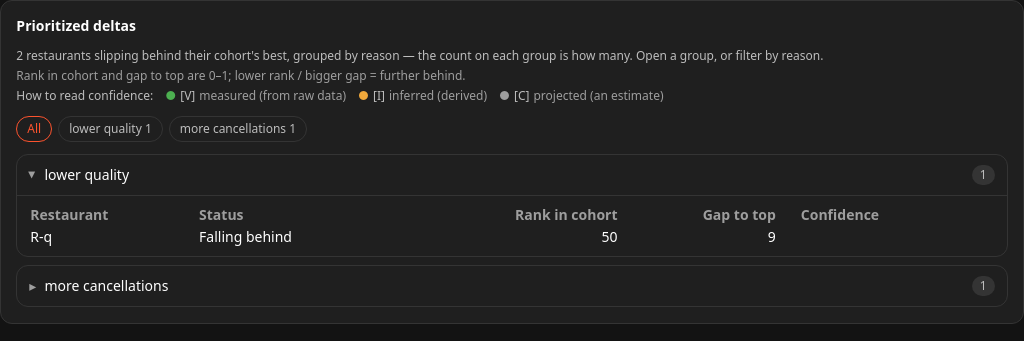
Test case: F-2.3 DeltaPanel — grouped by cause › filtering by a cause chip hides rows of the other causes
expect the text "R-q" is shown: met, box [29,226,198,248]
Click the button "more cancellations 1". click: (238, 129)
box: [169,116,307,142]
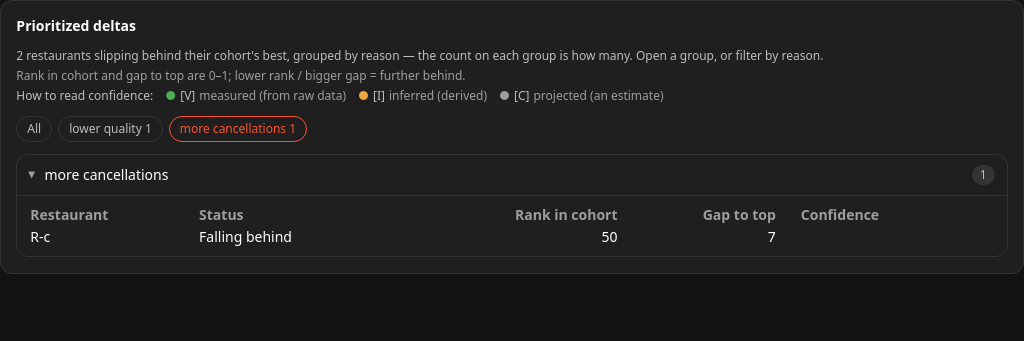
expect the text "R-q" is gone: met
expect the text "R-c" is shown: met, box [29,226,198,248]
